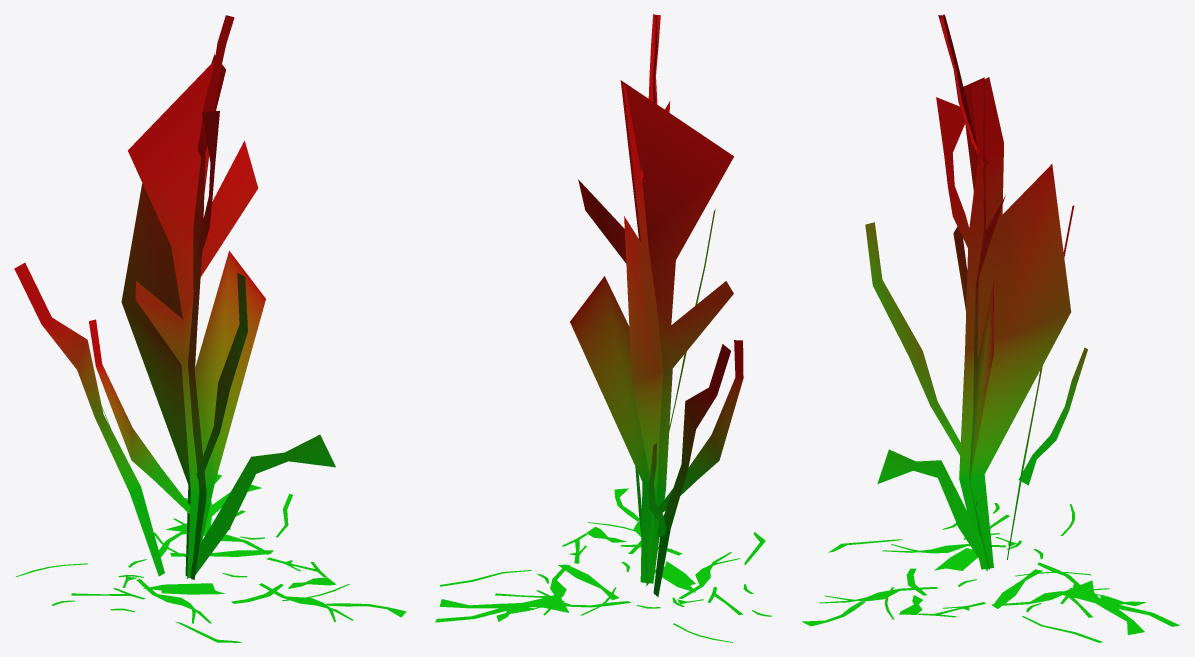
The model's file is Dead Shrubs_LOD0_Var6_vdknbbuha.fbx.
3 views of the same model, side by side, from view 1: azimuth 30°, elevation 25°; view 2: azimuth 150°, elevation 25°; view 3: azimuth 270°, elevation 25° (orthographic). The views are drawn at different scales.
Visible parts, largest first — view 1: _5m58_Var6_LOD0; view 2: _5m58_Var6_LOD0; view 3: _5m58_Var6_LOD0.
Part boxes in pixels (bbox=[...]): _5m58_Var6_LOD0: bbox=[14, 15, 406, 642]; _5m58_Var6_LOD0: bbox=[435, 14, 772, 642]; _5m58_Var6_LOD0: bbox=[802, 14, 1179, 642].
Bounding box in the file's own units: 36.36 × 68.29 × 41.65.
